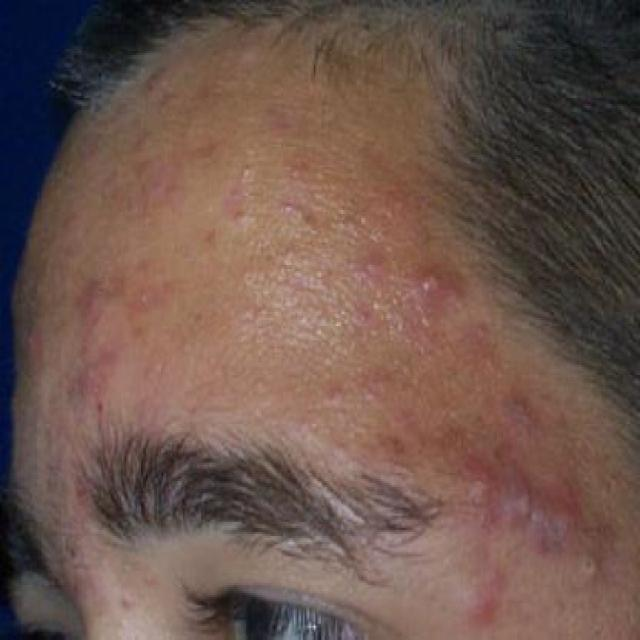Acne: (63, 259, 122, 346), (74, 336, 134, 410), (403, 249, 463, 314), (444, 572, 514, 622), (531, 493, 580, 552), (502, 469, 540, 528)
Blackheads: (225, 200, 263, 230)
Whiteheads: (234, 153, 261, 185)
